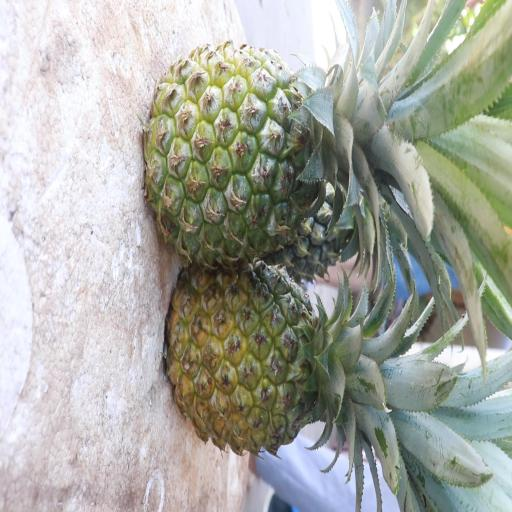------------------------------: (144, 50, 367, 260)
Pineapple - v8 v1: (165, 262, 371, 456)
